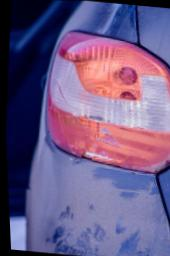Light: (42, 29, 170, 173)
